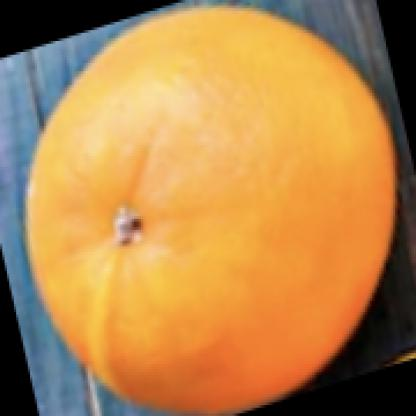orange: (24, 4, 399, 409)
